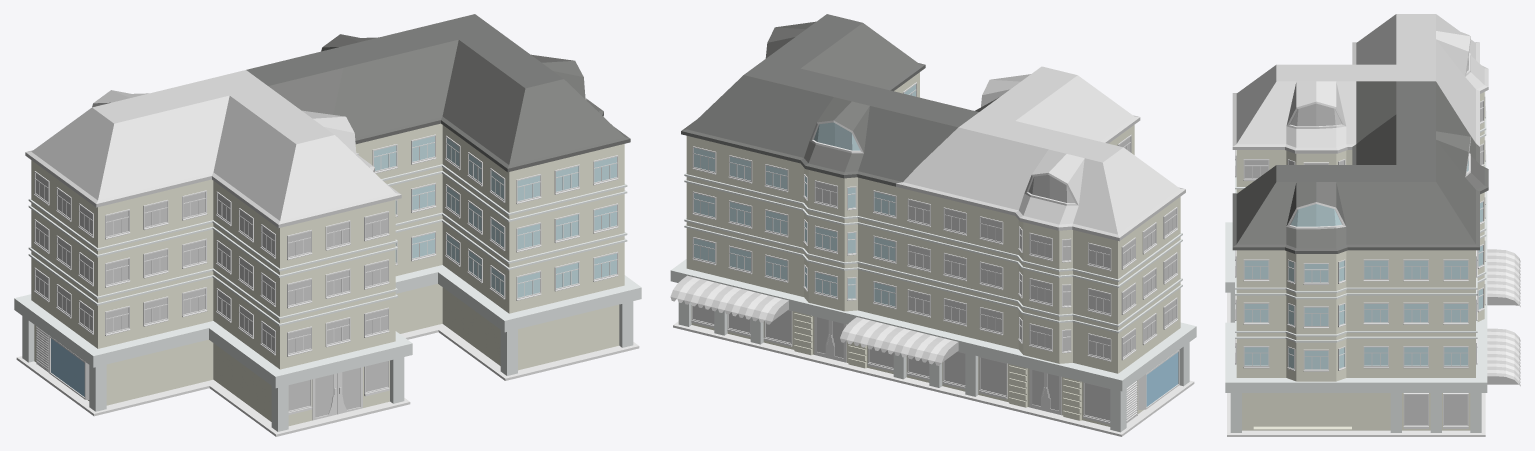
The model's file is CoffeShop_PlaceBuilding.fbx.
3 views of the same model, side by side, from view 1: azimuth 30°, elevation 25°; view 2: azimuth 150°, elevation 25°; view 3: azimuth 270°, elevation 25° (orthographic). The views are drawn at different scales.
Visible parts, largest first — view 1: Building_facad.001, showcase, Cube.028, Cube.24, Cube.13, Cube.15, Cube.051, Cube.052, Cube.14, Cube.027, Cube.024; view 2: Building_facad.001, shed1, shed1.001, showcase, shed, shed.001, Cube.029, Cube.034, Cube.030, Cube.069, Cube.12, Cube.11 (+4 smaller); view 3: Building_facad.001, shed1, shed1.001, shed.001, shed, Cube.068, Cube.067, Cube.049, Cube.050, Cube.052, Cube.057, glass.140 (+16 smaller).
Boxes of the visible parts, box(x1,y1,x2,y2) form: Building_facad.001: box(14, 14, 641, 436); showcase: box(49, 336, 89, 399); Cube.028: box(315, 368, 359, 417); Cube.24: box(312, 367, 362, 420); Cube.13: box(89, 364, 106, 411); Cube.15: box(271, 385, 288, 431); Cube.051: box(500, 329, 517, 375); Cube.052: box(619, 301, 633, 347); Cube.14: box(390, 357, 404, 403); Cube.027: box(365, 361, 387, 391); Cube.024: box(288, 380, 310, 410); Building_facad.001: box(670, 14, 1196, 436); shed1: box(840, 317, 958, 365); shed1.001: box(670, 275, 788, 324); showcase: box(1138, 350, 1179, 409); shed: box(847, 318, 951, 364); shed.001: box(677, 277, 781, 322); Cube.029: box(1084, 383, 1110, 420); Cube.034: box(980, 357, 1006, 395); Cube.030: box(1032, 370, 1058, 410); Cube.069: box(817, 317, 843, 357); Cube.12: box(1110, 388, 1126, 432); Cube.11: box(1029, 369, 1061, 415); Building_facad.001: box(1225, 14, 1488, 436); shed1: box(1487, 249, 1520, 306); shed1.001: box(1487, 328, 1520, 386); shed.001: box(1487, 331, 1520, 382); shed: box(1487, 252, 1520, 303); Cube.068: box(1404, 394, 1428, 425); Cube.067: box(1444, 394, 1467, 425); Cube.049: box(1390, 393, 1401, 432); Cube.050: box(1430, 393, 1441, 432); Cube.052: box(1230, 393, 1241, 432); Cube.057: box(1470, 393, 1481, 432); glass.140: box(1244, 347, 1268, 365).
Bounding box in the file's own units: 5616 × 2898 × 3313.
